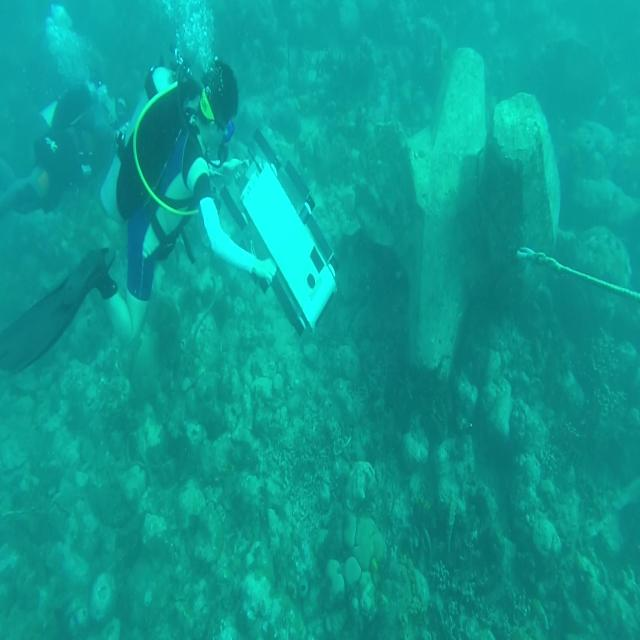human: (1, 55, 279, 375), (1, 73, 121, 218)
